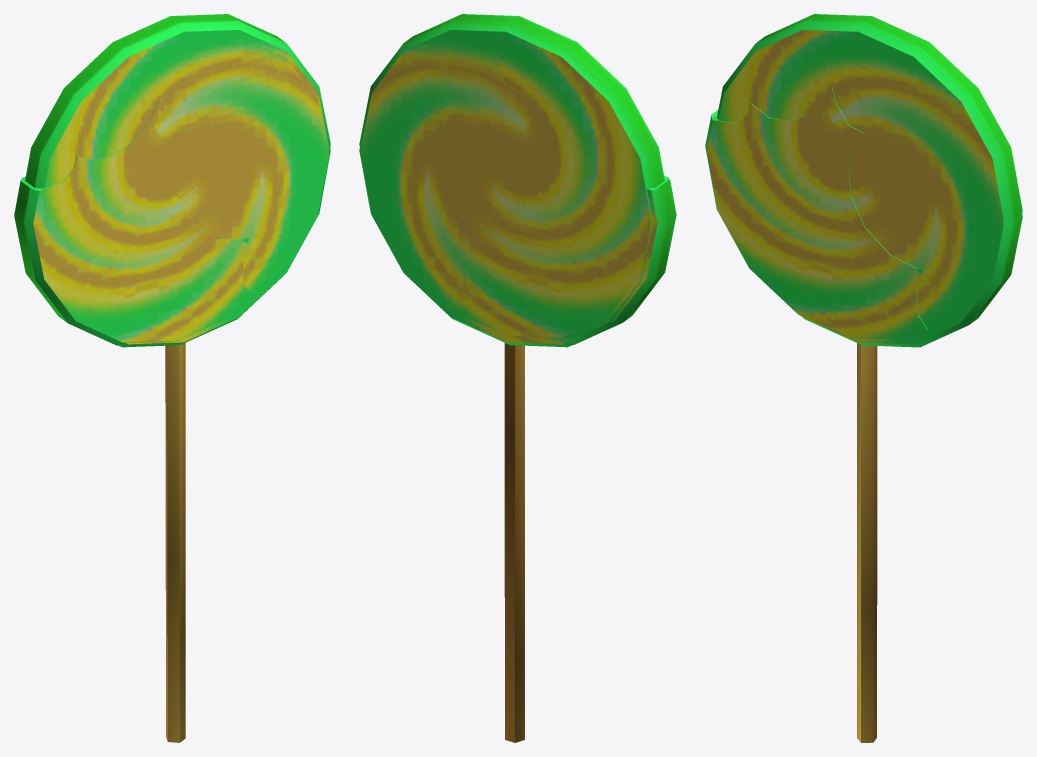
Rendered from Lolly.fbx.
The picture shows the model from 3 angles, left to right: view 1: azimuth 30°, elevation 25°; view 2: azimuth 150°, elevation 25°; view 3: azimuth 330°, elevation 25°; orthographic projection.
Parts seen in each view (by area): view 1: lollipop1, lollipop3, lollipop2, lollipop_stick; view 2: lollipop1, lollipop2, lollipop_stick, lollipop3; view 3: lollipop1, lollipop3, lollipop2, lollipop_stick.
Part boxes in pixels (left/top/right/bottom): lollipop1: left=25, top=14, right=330, bottom=287; lollipop3: left=14, top=100, right=254, bottom=345; lollipop2: left=119, top=38, right=330, bottom=347; lollipop_stick: left=165, top=343, right=185, bottom=742; lollipop1: left=359, top=14, right=664, bottom=337; lollipop2: left=359, top=36, right=651, bottom=347; lollipop_stick: left=504, top=343, right=524, bottom=742; lollipop3: left=568, top=175, right=676, bottom=344; lollipop1: left=717, top=14, right=1022, bottom=337; lollipop3: left=705, top=88, right=928, bottom=340; lollipop2: left=800, top=64, right=1022, bottom=347; lollipop_stick: left=857, top=343, right=877, bottom=742.
Size of the model in its own units: 0.2021 by 0.4523 by 0.0204.
1 material, 1 textured.
